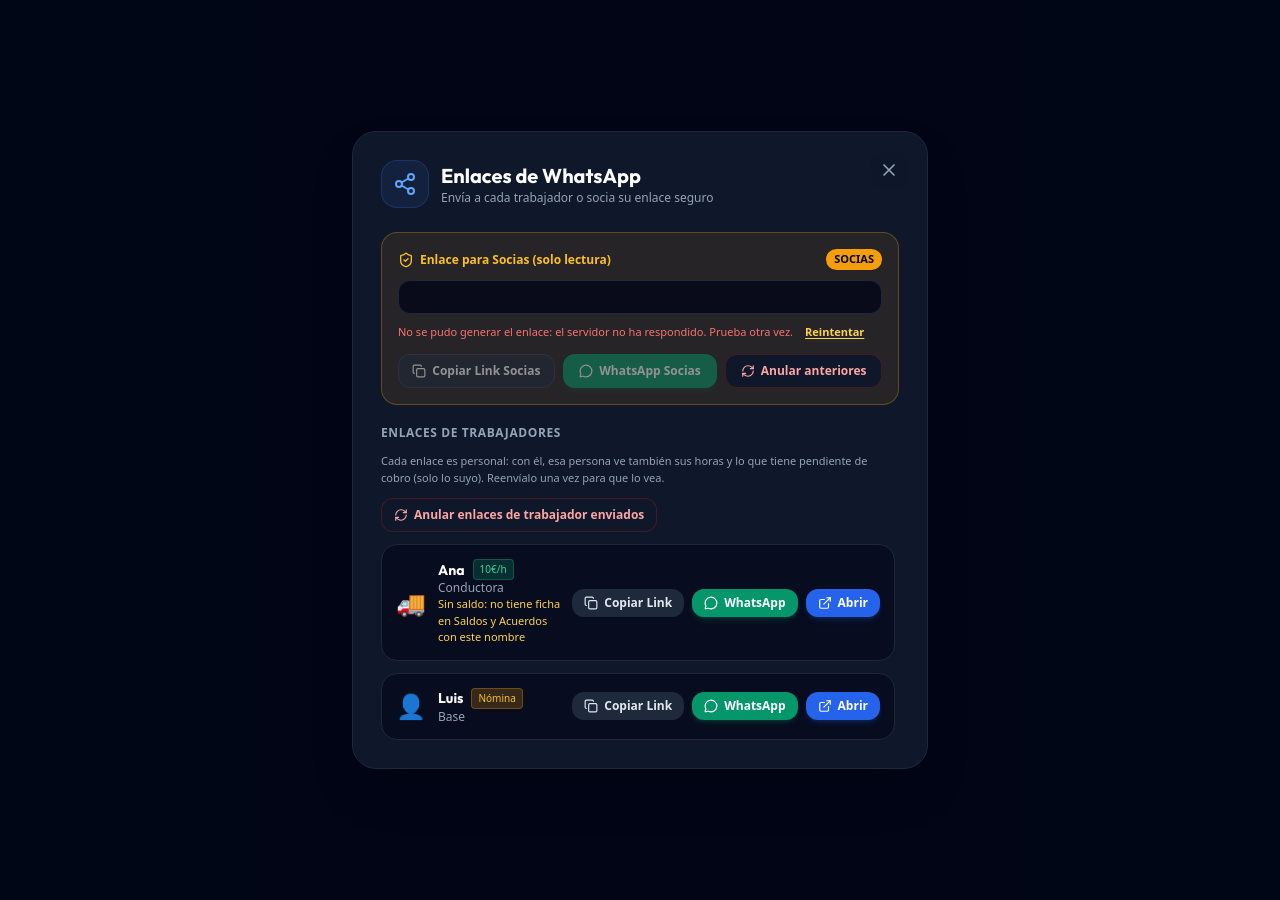
EnlacesWhatsAppModal › BUG evitado: si la petición se quedó colgada, dice por qué y «Reintentar» lo vuelve a pedir (antes: "Generando enlace…" para siempre)
Expected: the message shows "no ha respondido", [555,324,793,339]
Click the button "Reintentar" at x=835, y=332, box [805,324,864,340]
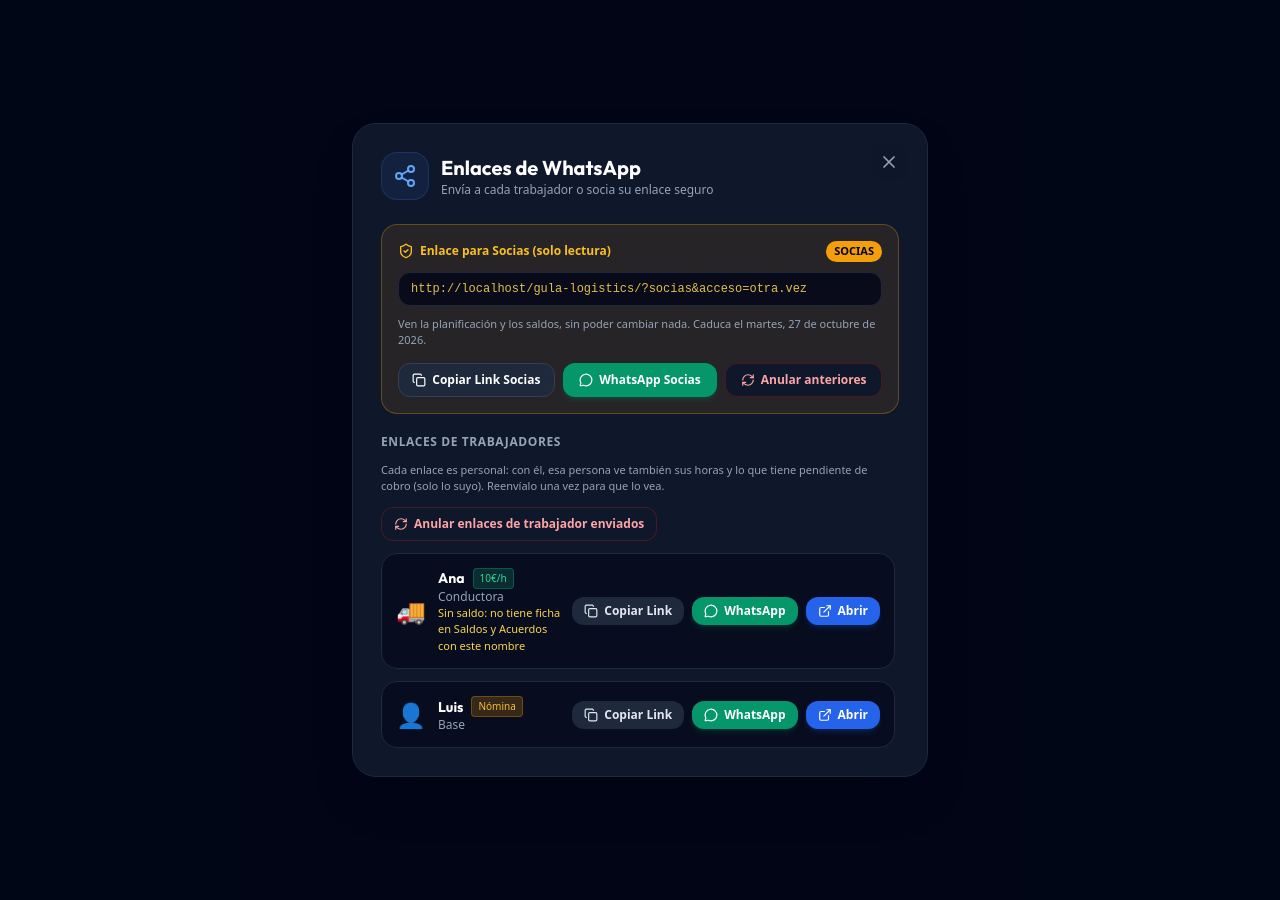
Expected: the field showing "acceso=otra.vez" is shown, [411,280,869,296]
Expected: the message "No se pudo generar el enlace: el servidor no ha respondido. Prueba otra vez." is gone
